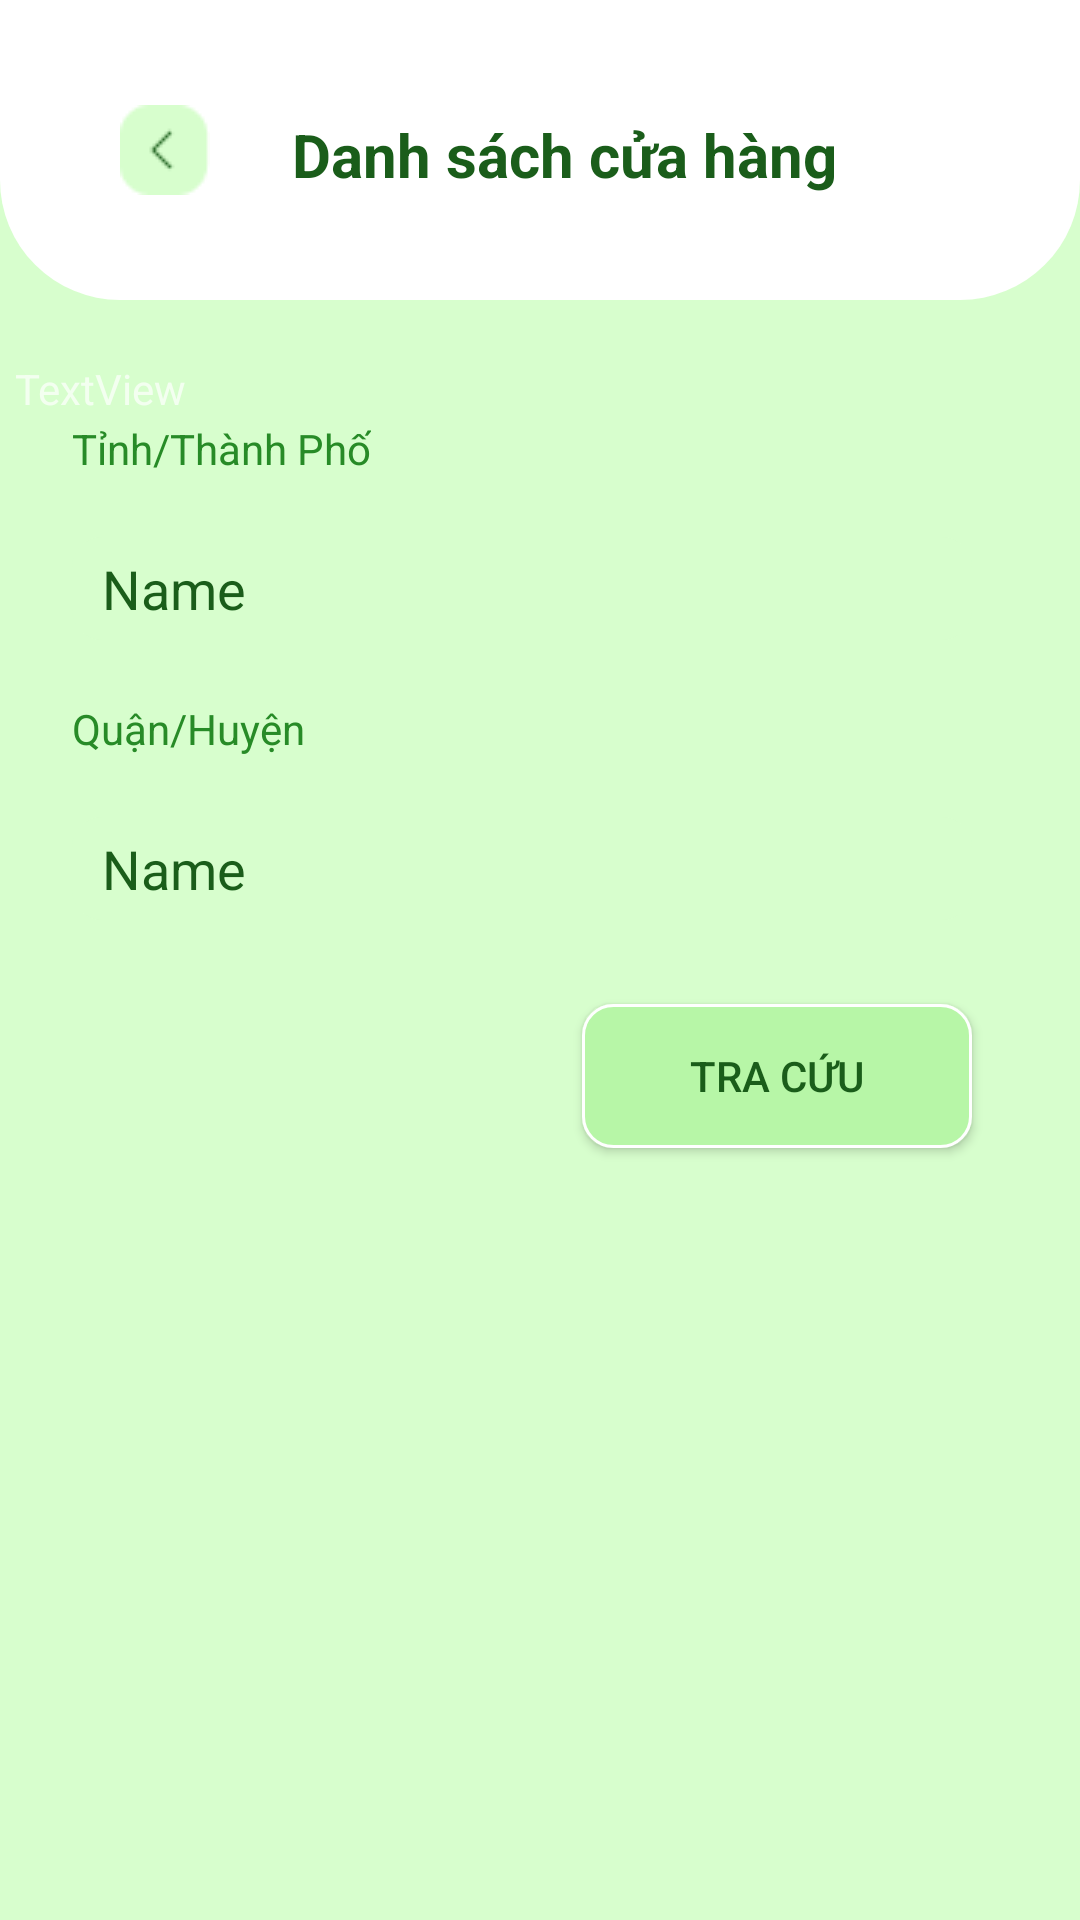

Icons on this 1080px x 1920px Android screen, each with the point to tap as [x,y]:
expand left: [163,150]
